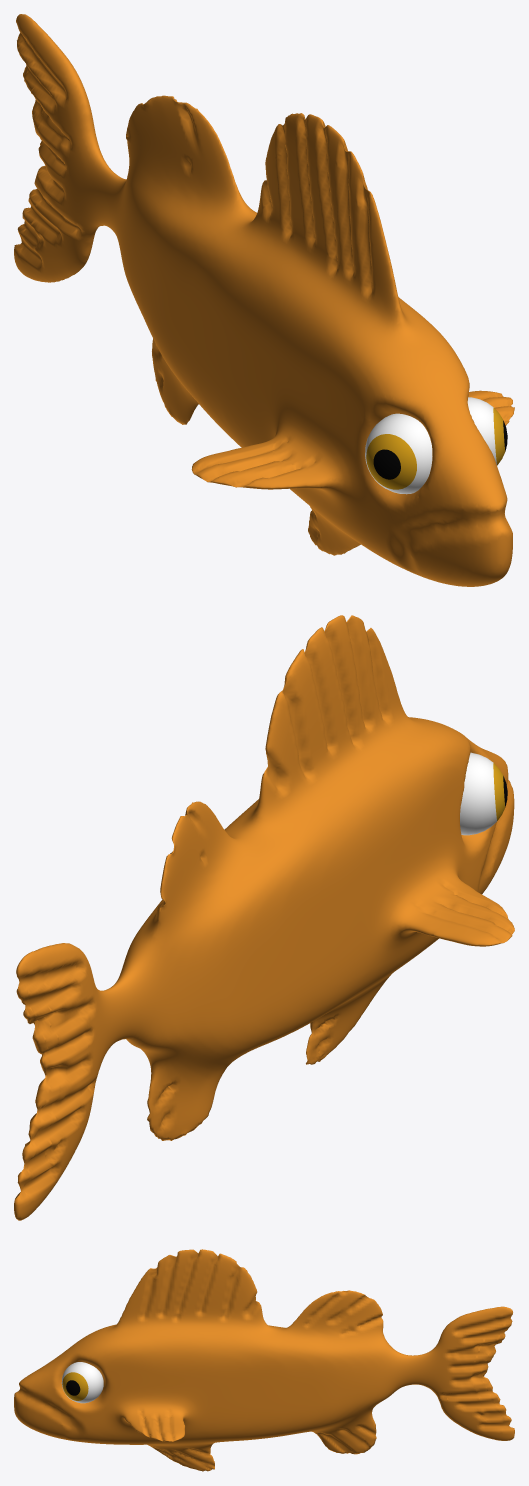
The model's file is Perch.fbx.
3 renders of one model, top to bottom at view 1: azimuth 30°, elevation 25°; view 2: azimuth 150°, elevation 25°; view 3: azimuth 270°, elevation 25°, orthographic. The views are drawn at different scales.
Parts seen in each view (by area): view 1: Cube, Sphere; view 2: Cube, Sphere; view 3: Cube, Sphere.
Part boxes in pixels (<box>): Cube: <box>14,14,514,586</box>; Sphere: <box>365,397,507,494</box>; Cube: <box>14,615,514,1220</box>; Sphere: <box>460,752,507,835</box>; Cube: <box>14,1249,514,1471</box>; Sphere: <box>61,1362,103,1403</box>.
Bounding box in the file's own units: 278 × 365 × 746.
